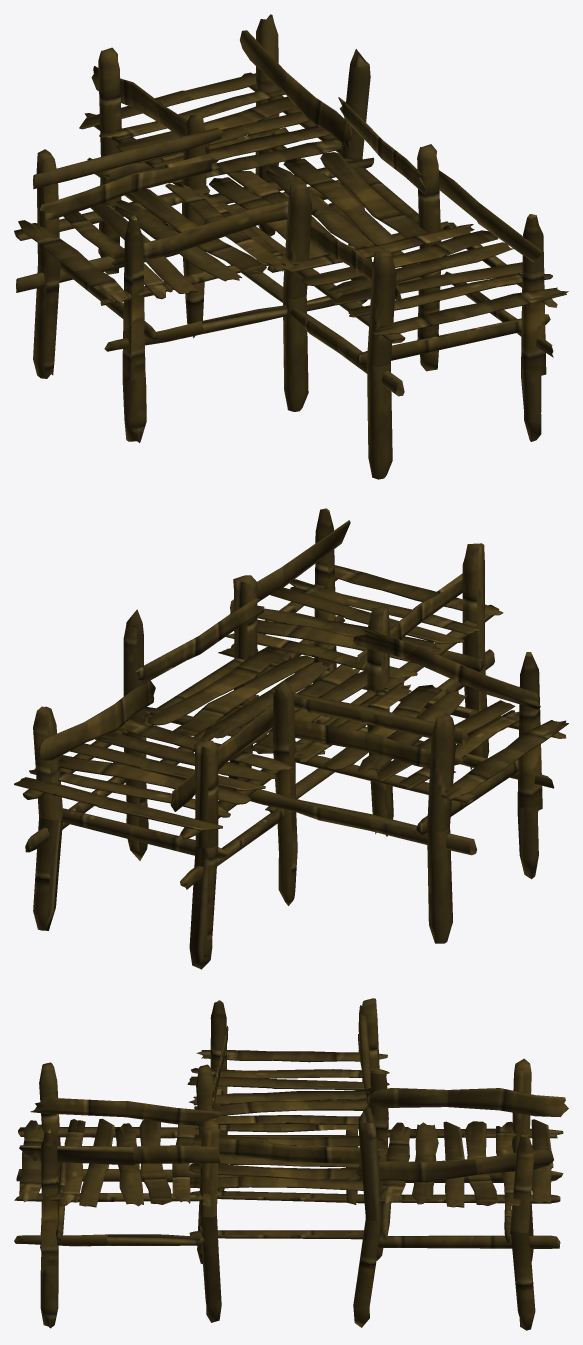
The model's file is Footbridge_T.fbx.
3 views of the same model, one above another, from view 1: azimuth 30°, elevation 25°; view 2: azimuth 150°, elevation 25°; view 3: azimuth 270°, elevation 25° (orthographic). The views are drawn at different scales.
Parts seen in each view (by area): view 1: footbridge_T; view 2: footbridge_T; view 3: footbridge_T.
Boxes of the visible parts, x1,y1,x2,y2 form: footbridge_T: (14,14,568,479); footbridge_T: (14,508,568,969); footbridge_T: (14,998,568,1330).
Size of what is drawn, in the model's own units: 200 by 133 by 299.
